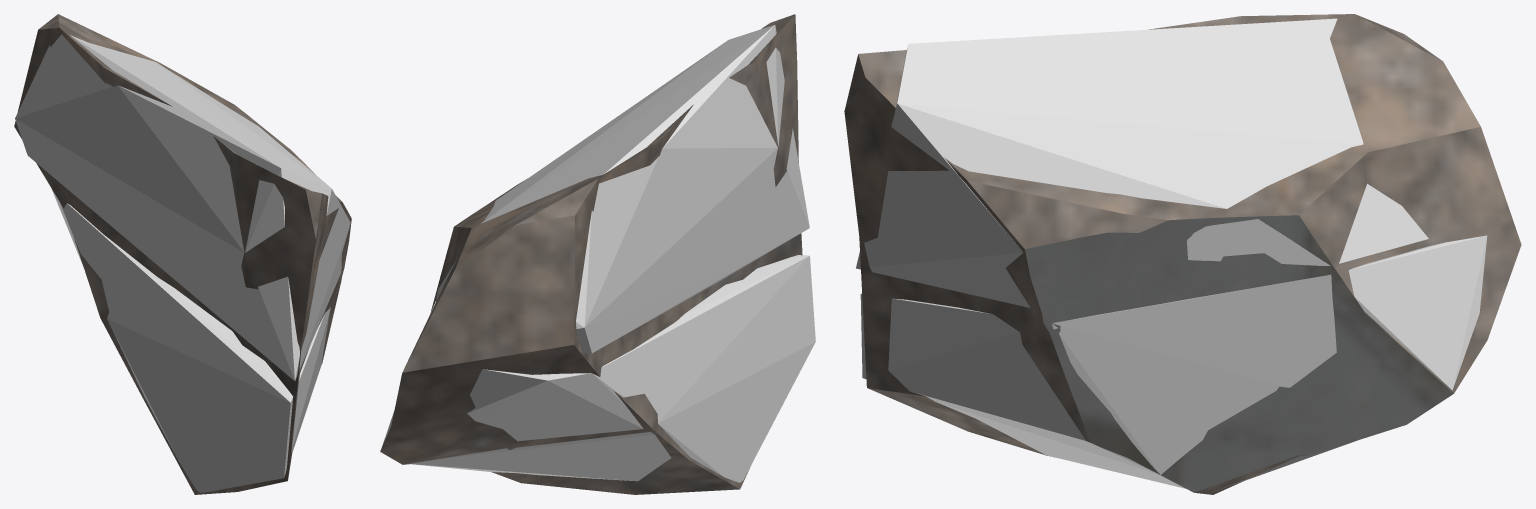
Rendered from SM_Rock_62.fbx.
3 views of the same model, side by side, from view 1: azimuth 30°, elevation 25°; view 2: azimuth 150°, elevation 25°; view 3: azimuth 270°, elevation 25° (orthographic). The views are drawn at different scales.
Parts seen in each view (by area): view 1: SM_Rock_62_ConvexHulls, SM_Rock_62_LOD0; view 2: SM_Rock_62_ConvexHulls, SM_Rock_62_LOD0; view 3: SM_Rock_62_ConvexHulls, SM_Rock_62_LOD0.
Boxes of the visible parts, x1,y1,x2,y2 form: SM_Rock_62_ConvexHulls: (15,34,350,492); SM_Rock_62_LOD0: (14,14,351,494); SM_Rock_62_ConvexHulls: (382,25,815,482); SM_Rock_62_LOD0: (380,14,802,494); SM_Rock_62_ConvexHulls: (856,18,1487,492); SM_Rock_62_LOD0: (844,14,1521,494).
Size of the model in its own units: 14.91 by 44 by 31.47.
